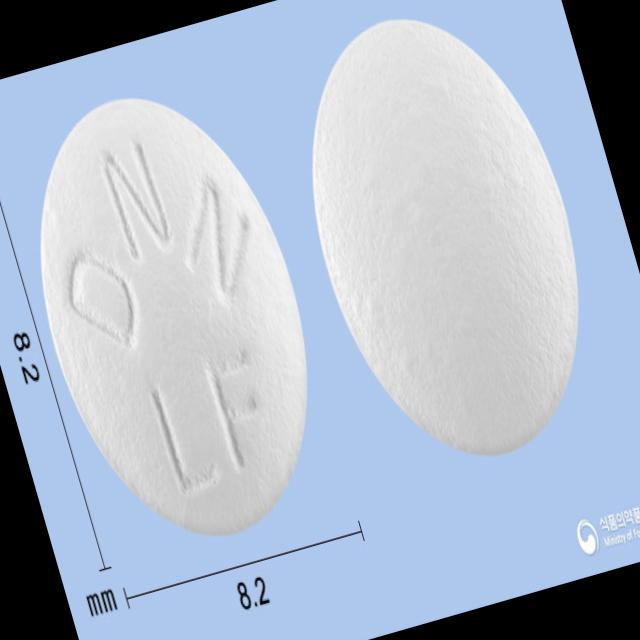Levoflcin: (0, 65, 356, 568)
